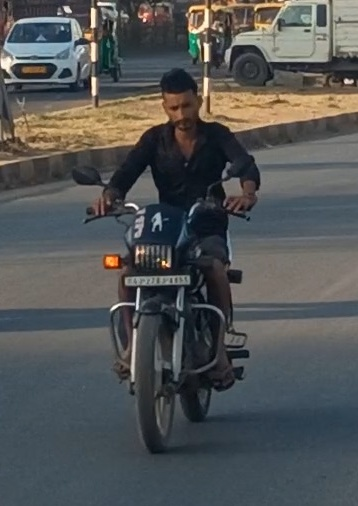BikeWithRider: (60, 61, 295, 459)
NoHelmet: (151, 64, 208, 134)
